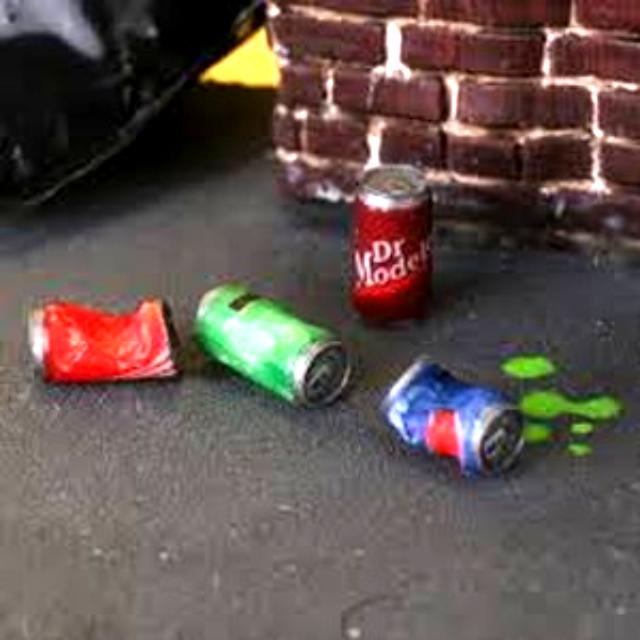Metal: (200, 280, 350, 412), (381, 348, 519, 484), (23, 292, 180, 383), (346, 162, 434, 322)
